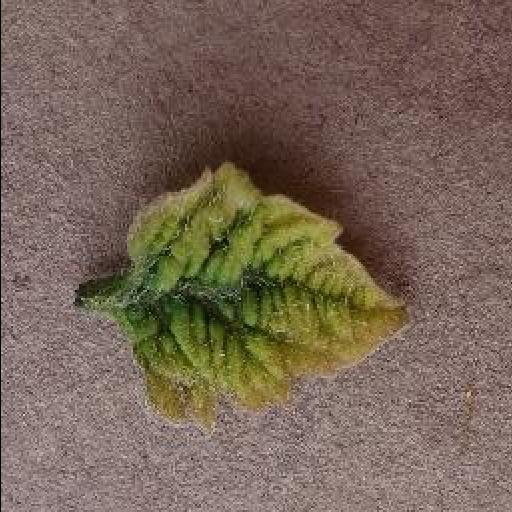disease_tomato: (118, 168, 414, 430)
